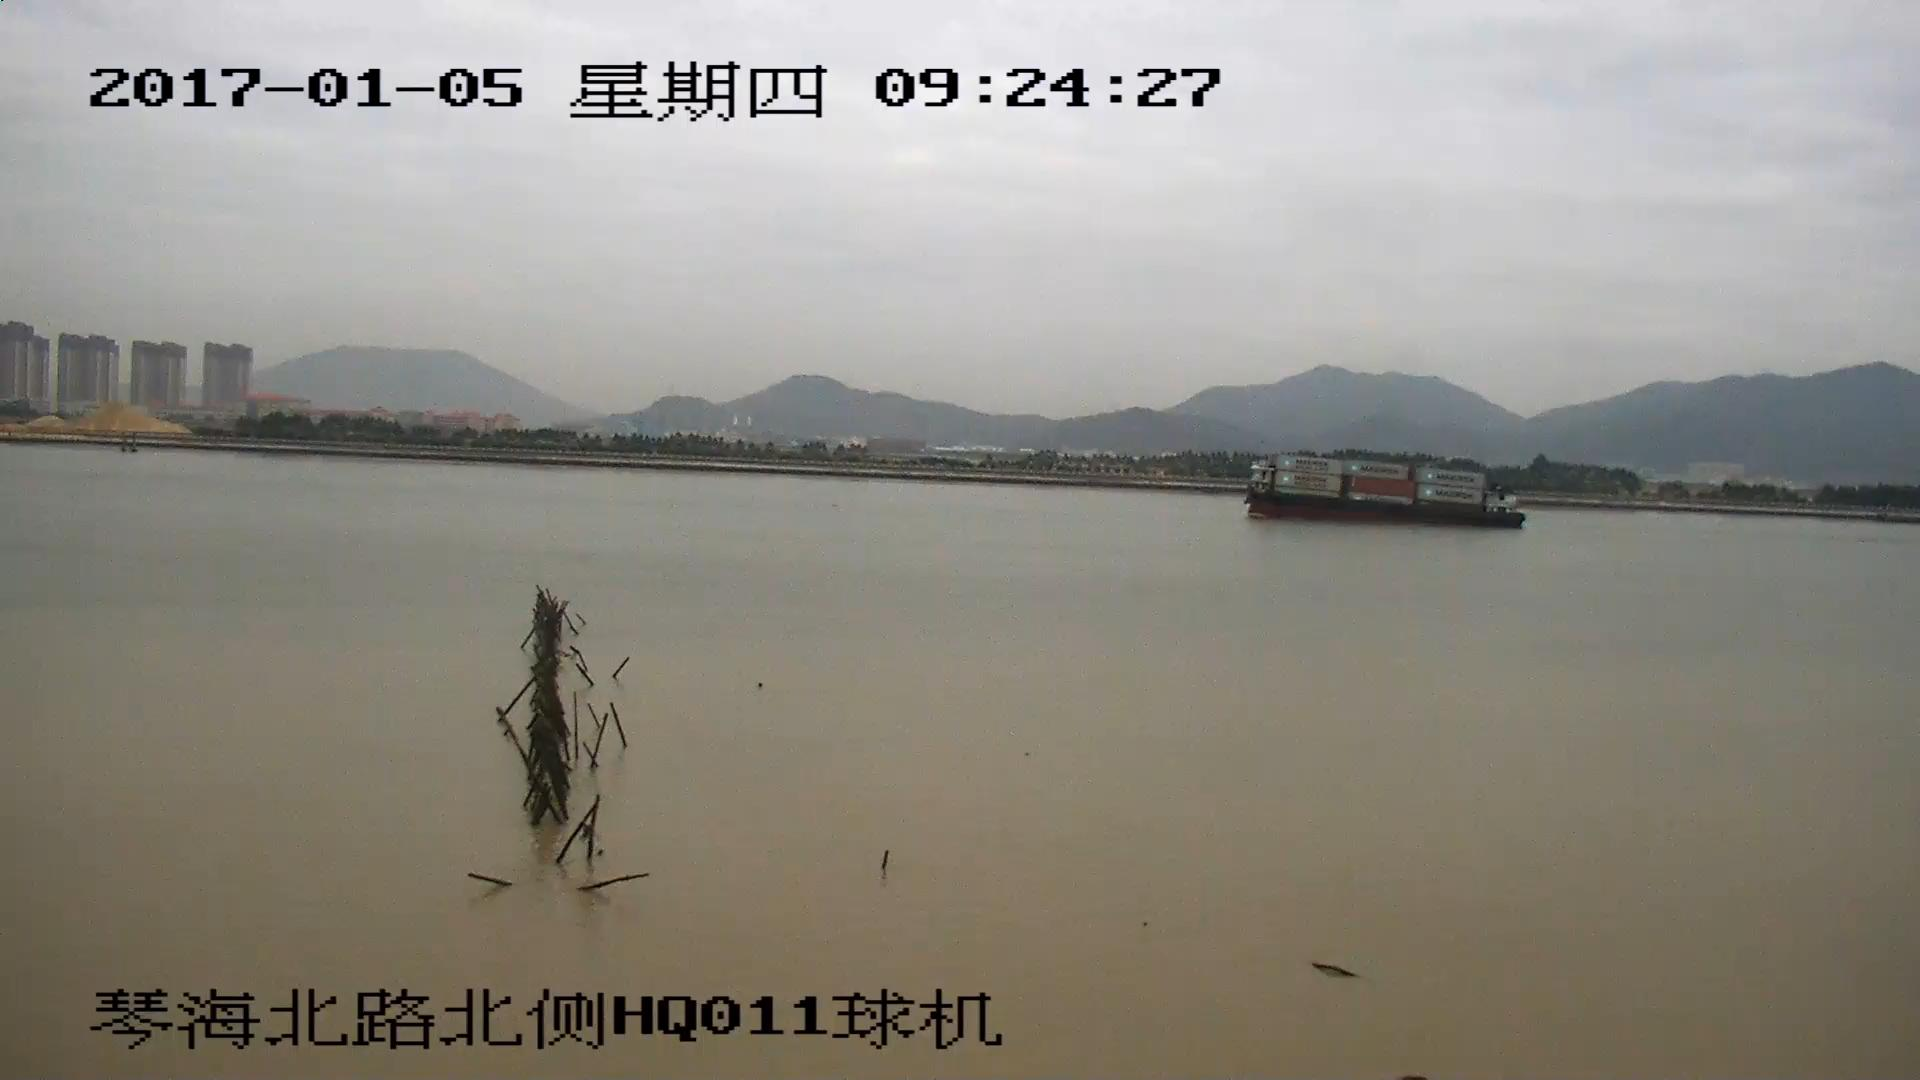container ship: (1238, 458, 1520, 526)
